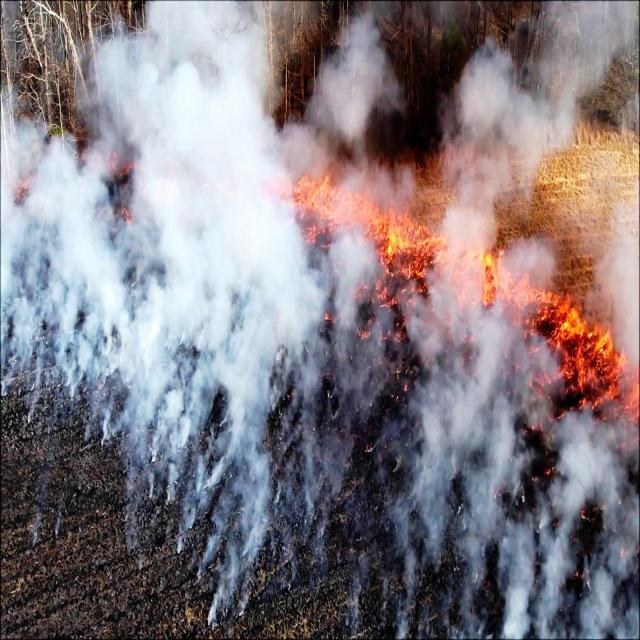Fire: (368, 195, 502, 308)
Smoke: (99, 0, 318, 640), (450, 0, 640, 249), (409, 278, 528, 640), (5, 115, 97, 424), (541, 403, 640, 640)
